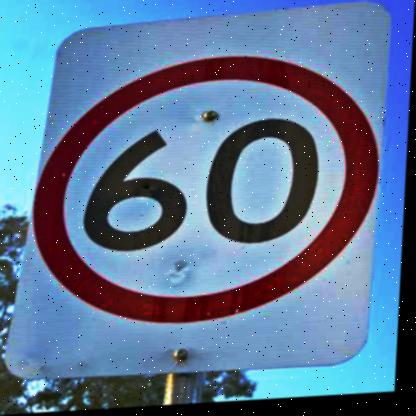Speed Limit -60-: (20, 50, 391, 341)
